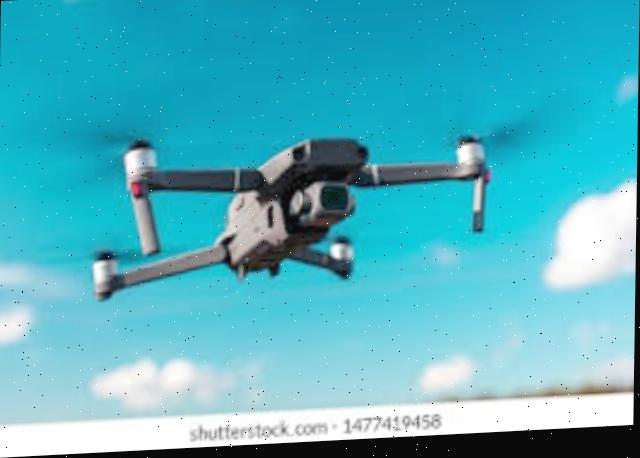drone: (59, 100, 532, 318)
